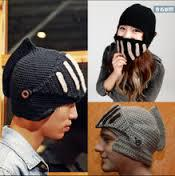NONE: (41, 99, 81, 141), (95, 130, 134, 171)
WRONG: (115, 22, 149, 62)
